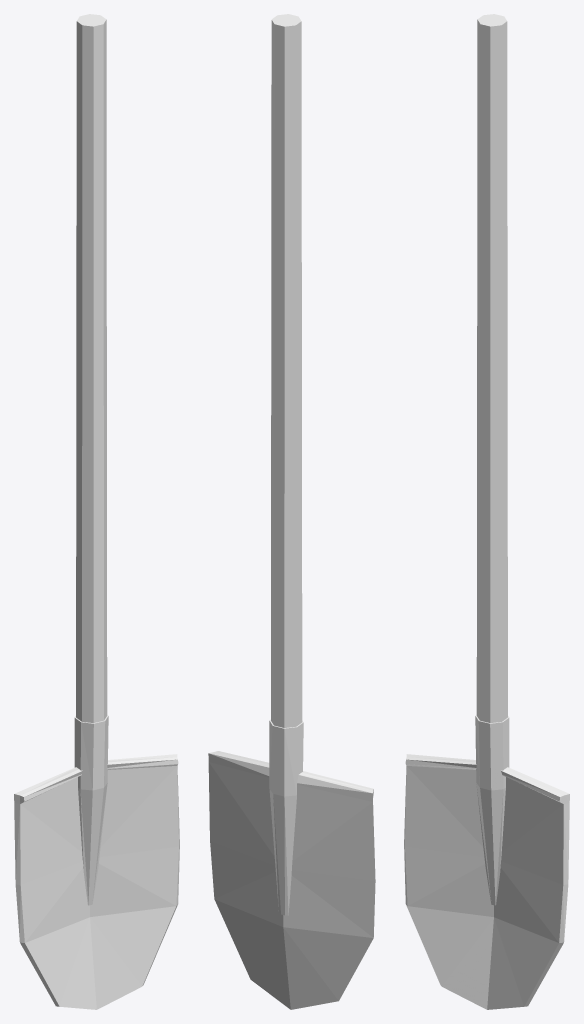
Rendered from Tool_Shovel_02.glb.
The picture shows the model from 3 angles, left to right: view 1: azimuth 30°, elevation 25°; view 2: azimuth 150°, elevation 25°; view 3: azimuth 330°, elevation 25°; orthographic projection.
Visible parts, largest first — view 1: Tool_Shovel_02; view 2: Tool_Shovel_02; view 3: Tool_Shovel_02.
Part boxes in pixels (x1=…): Tool_Shovel_02: x1=14, y1=14, x2=179, y2=1009; Tool_Shovel_02: x1=208, y1=14, x2=375, y2=1009; Tool_Shovel_02: x1=404, y1=14, x2=569, y2=1009.
Bounding box in the file's own units: 0.2623 × 1.5 × 0.0487.
Materials: 1 (1 with a texture image).
